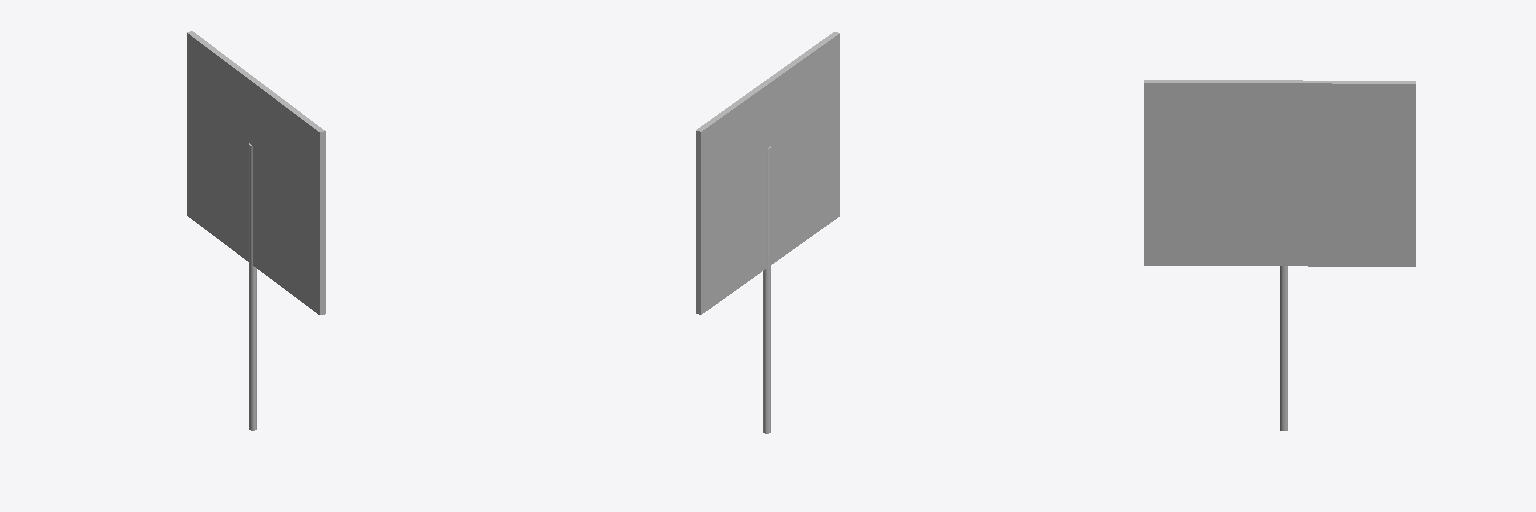
The model's file is board_16.obj.
The picture shows the model from 3 angles: view 1: azimuth 30°, elevation 25°; view 2: azimuth 150°, elevation 25°; view 3: azimuth 270°, elevation 25°; orthographic projection.
Visible parts, largest first — view 1: Cube.016_Cube.017, Cylinder.016; view 2: Cube.016_Cube.017, Cylinder.016; view 3: Cube.016_Cube.017, Cylinder.016.
Boxes of the visible parts, <box> form: Cube.016_Cube.017: <box>187,31,325,314</box>; Cylinder.016: <box>249,143,256,430</box>; Cube.016_Cube.017: <box>696,32,839,314</box>; Cylinder.016: <box>763,146,770,433</box>; Cube.016_Cube.017: <box>1144,80,1415,266</box>; Cylinder.016: <box>1280,266,1287,430</box>.
Size of the model in its own units: 0.0131 by 0.4895 by 0.3464.